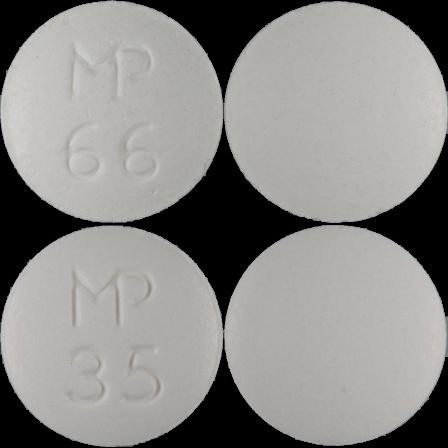53489-141: (0, 0, 224, 224)
